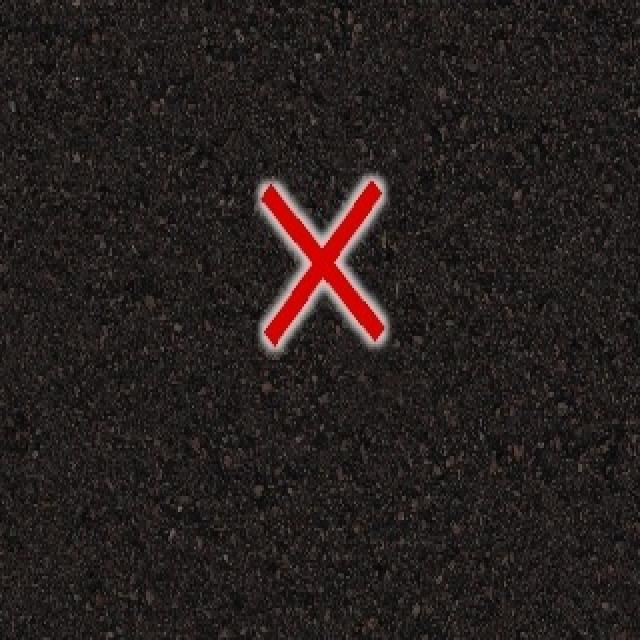x_marker: (261, 180, 383, 345)
